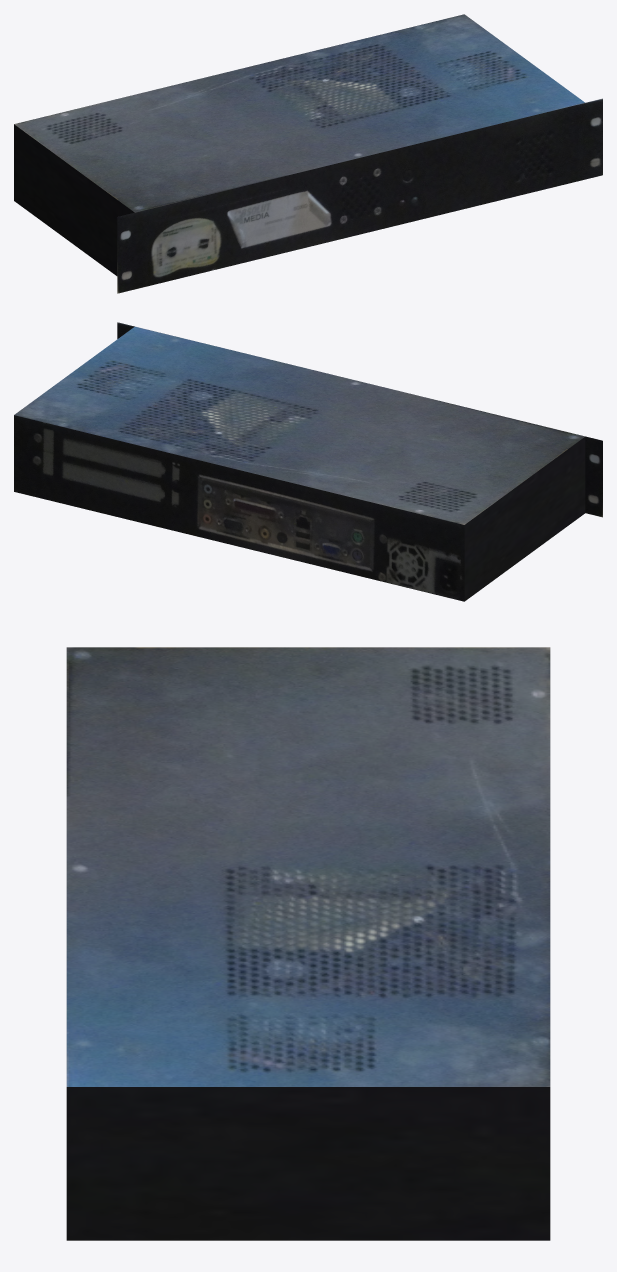
Rendered from server.glb.
3 views of the same model, one above another, from view 1: azimuth 30°, elevation 25°; view 2: azimuth 150°, elevation 25°; view 3: azimuth 270°, elevation 25° (orthographic). The views are drawn at different scales.
Visible parts, largest first — view 1: Cube; view 2: Cube; view 3: Cube.
Boxes of the visible parts, bbox=[...] form: Cube: bbox=[14, 14, 602, 293]; Cube: bbox=[14, 322, 602, 601]; Cube: bbox=[66, 647, 550, 1240].
Bounding box in the file's own units: 9.27 × 1.4 × 4.
1 material, 1 textured.
